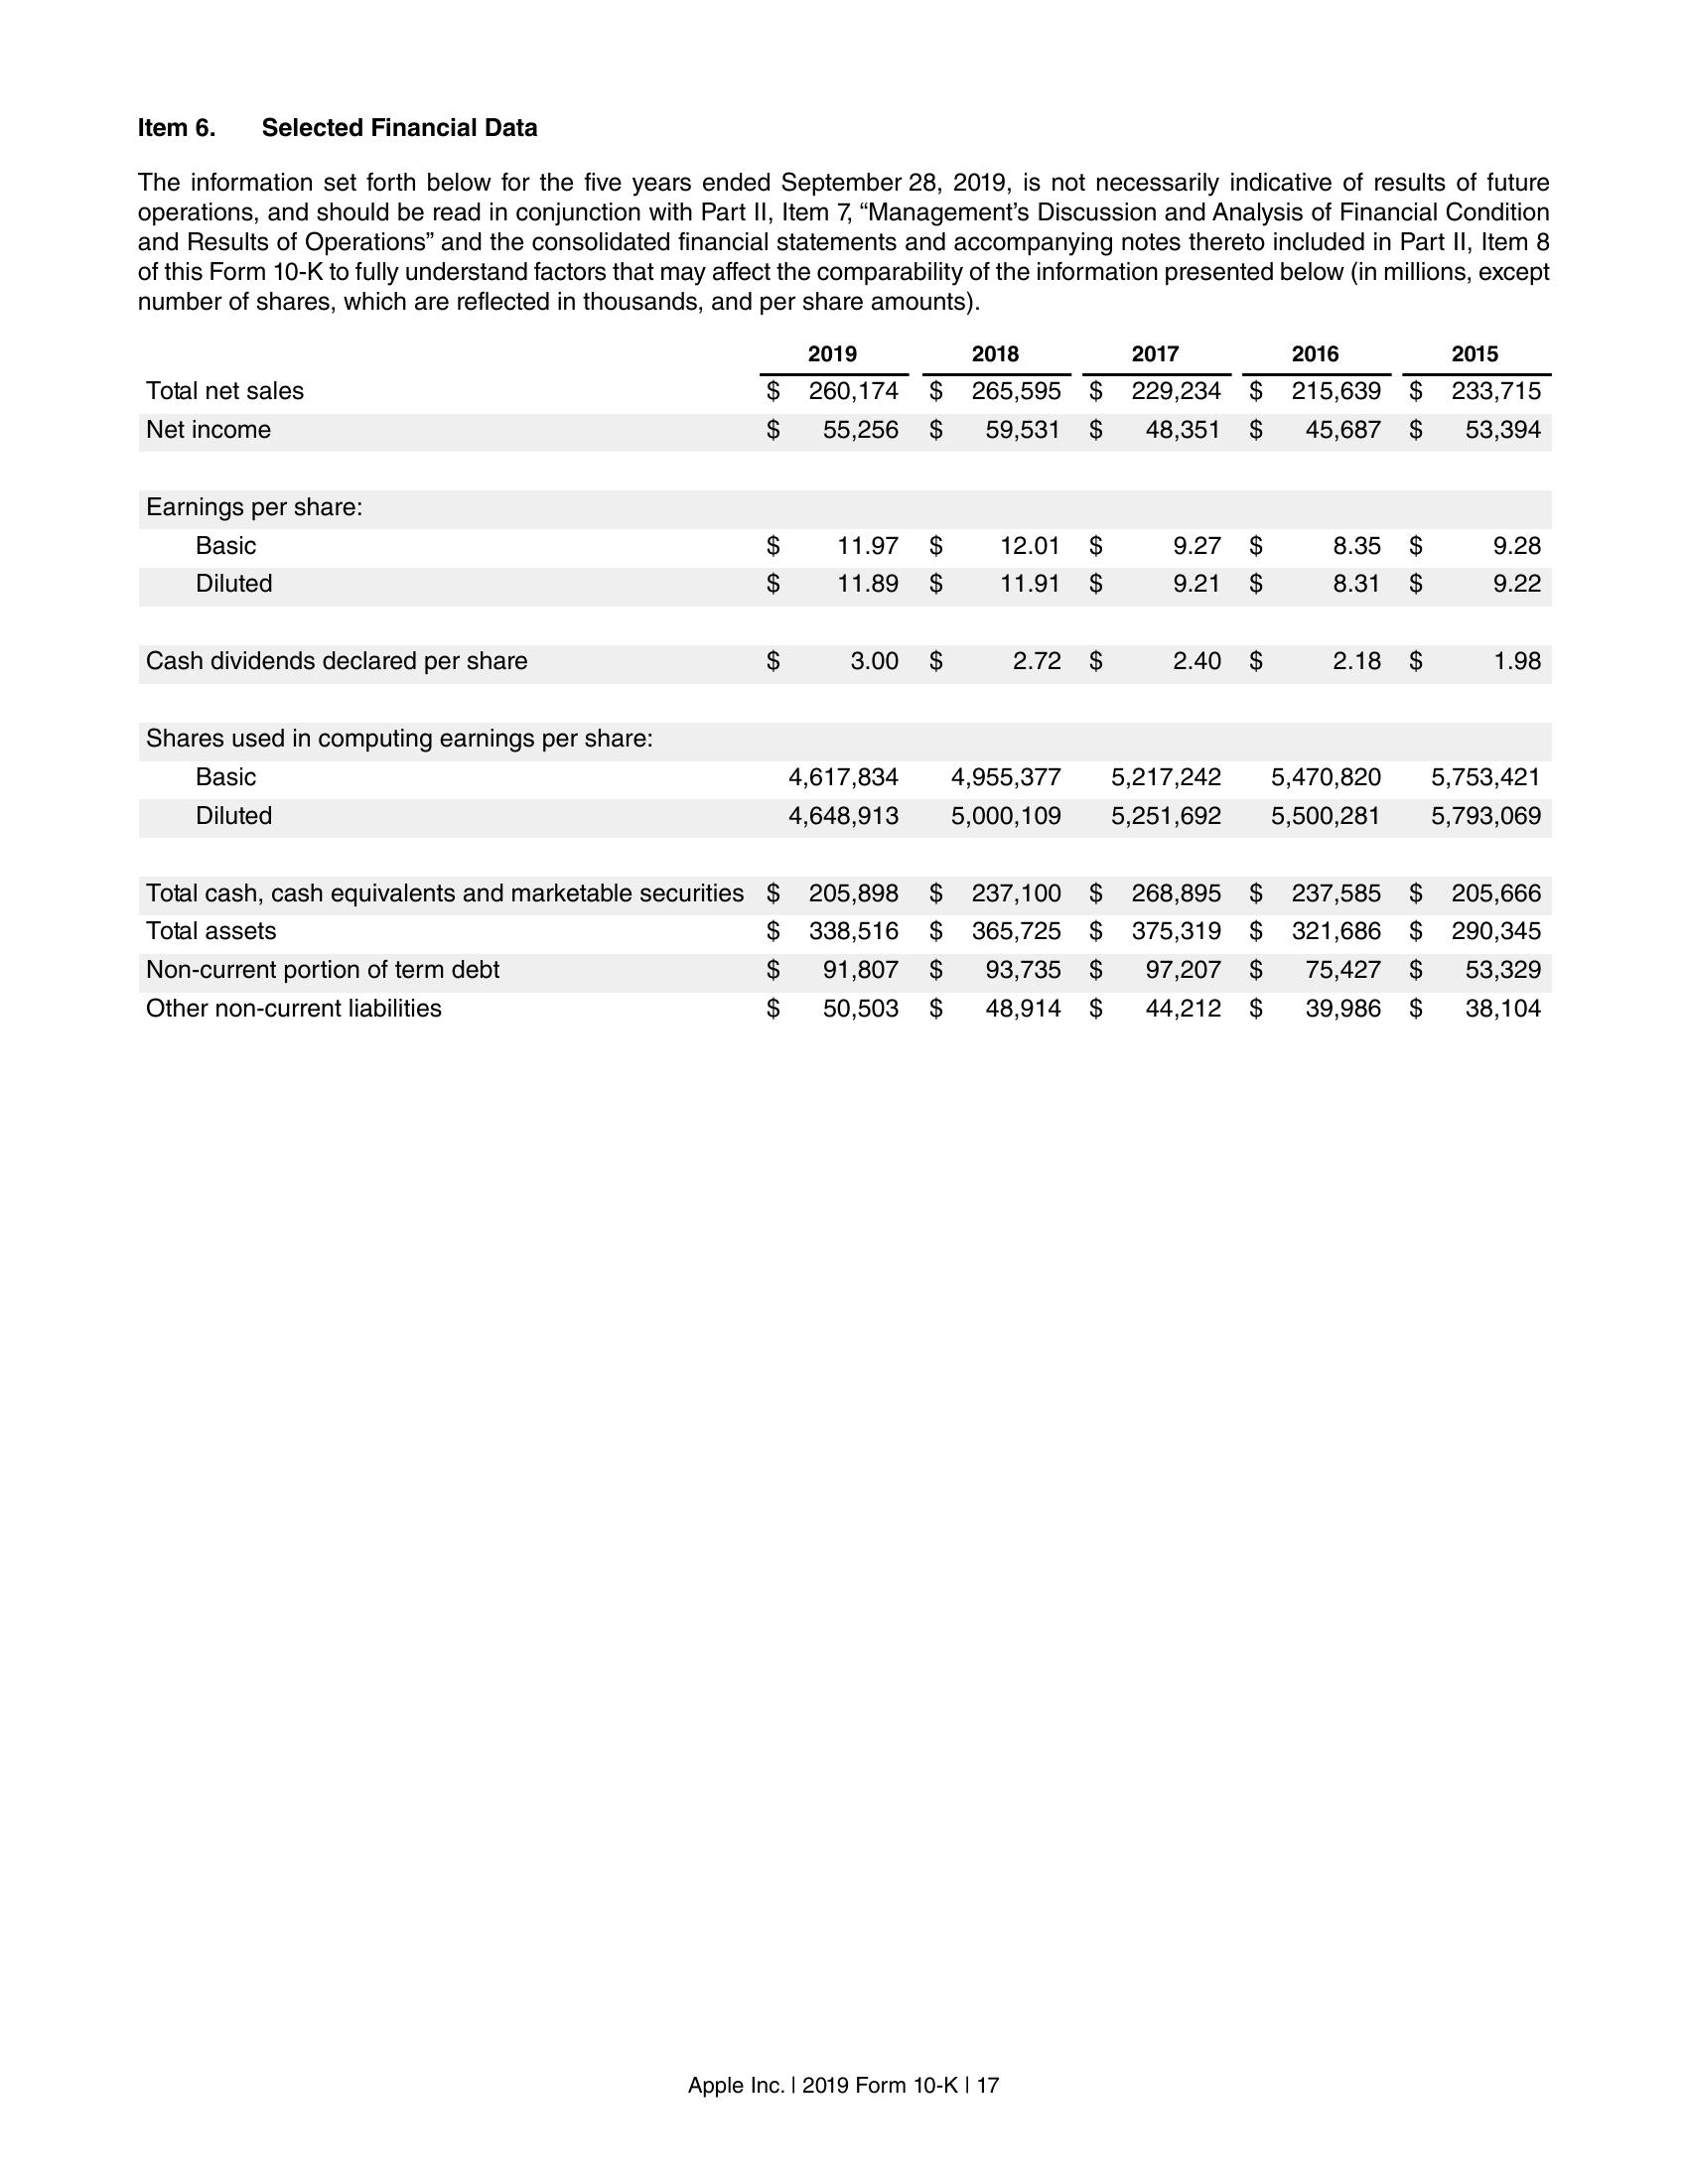table: (142, 340, 1559, 1026)
